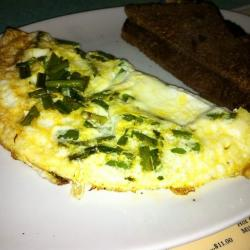bread: (121, 5, 250, 110)
omelette: (3, 31, 247, 195)
